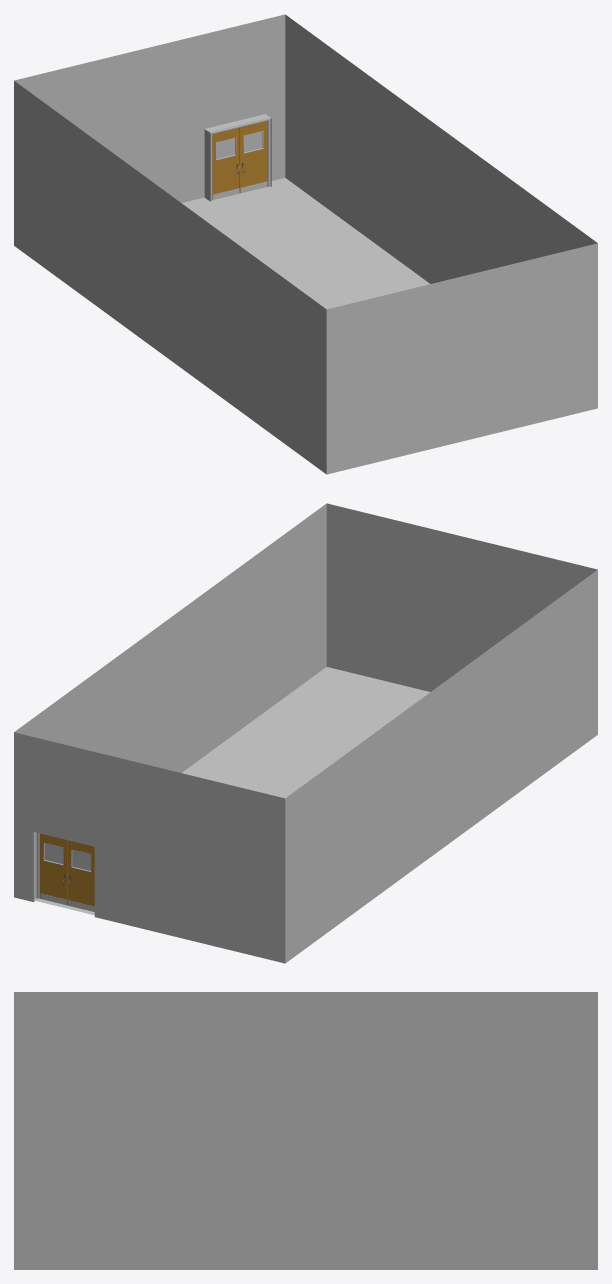
The model's file is Gym_walls.fbx.
The picture shows the model from 3 angles, top to bottom: view 1: azimuth 30°, elevation 25°; view 2: azimuth 150°, elevation 25°; view 3: azimuth 270°, elevation 25°; orthographic projection. The views are drawn at different scales.
Visible parts, largest first — view 1: gym_walls, Gym_floor, L_01_0, R_01_0; view 2: gym_walls, Gym_floor, L_01_0, R_01_0; view 3: gym_walls.
Part boxes in pixels (bbox=[...]): gym_walls: bbox=[14, 14, 597, 474]; Gym_floor: bbox=[181, 178, 429, 309]; L_01_0: bbox=[239, 121, 267, 192]; R_01_0: bbox=[212, 128, 239, 199]; gym_walls: bbox=[14, 503, 597, 963]; Gym_floor: bbox=[34, 667, 430, 915]; L_01_0: bbox=[40, 833, 67, 905]; R_01_0: bbox=[67, 840, 94, 906]; gym_walls: bbox=[14, 992, 597, 1269].
Bounding box in the file's own units: 1223 × 711 × 2442.
